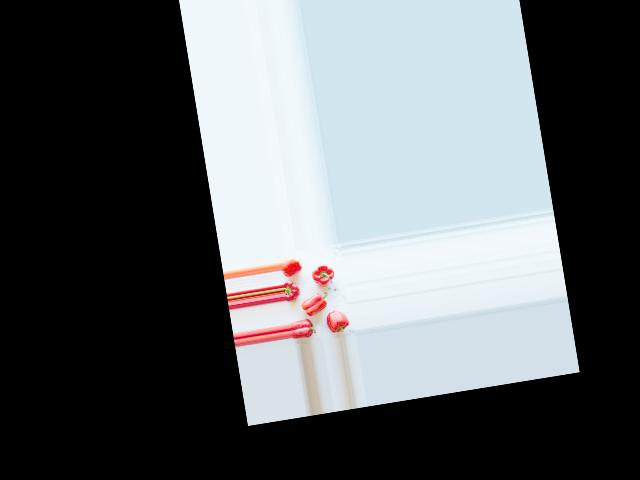bell_pepper: (283, 279, 302, 302)
